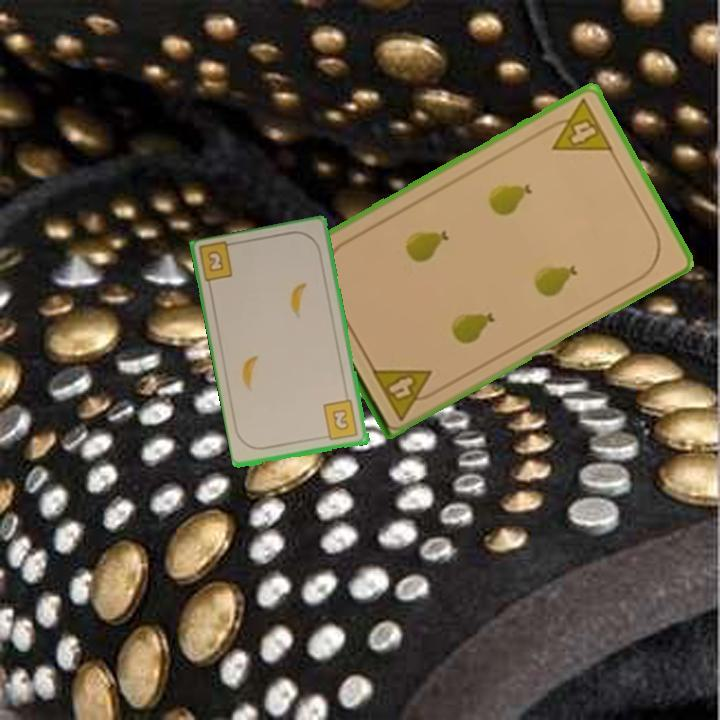2b: (319, 397, 361, 444), (204, 247, 227, 275)
4p: (539, 95, 616, 155), (368, 364, 443, 424)
